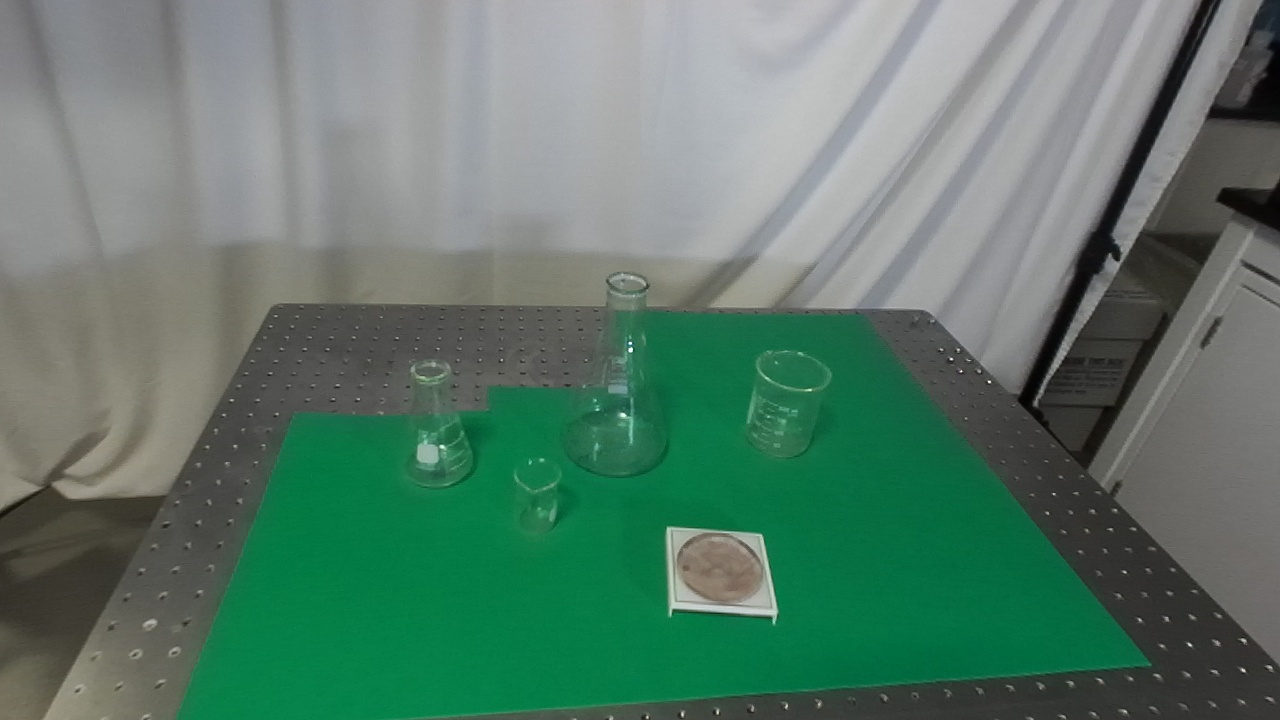glass: (559, 271, 676, 485), (393, 356, 480, 493), (742, 346, 836, 463), (508, 453, 566, 542)
plate: (662, 521, 783, 627)
